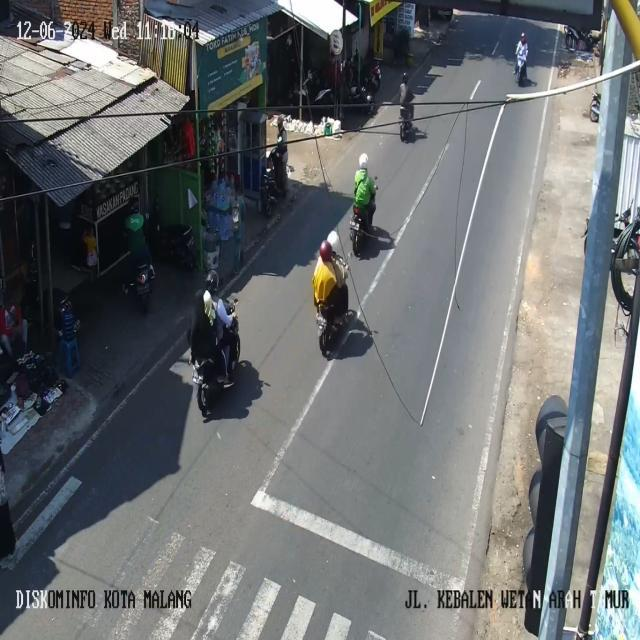Helmet: (205, 270, 218, 292), (319, 240, 332, 261), (327, 230, 338, 248), (359, 153, 367, 168), (277, 115, 283, 127), (402, 72, 407, 83), (520, 32, 526, 41)
